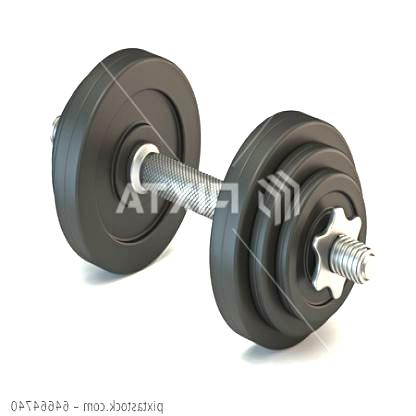Barbell: (352, 245, 378, 289)
